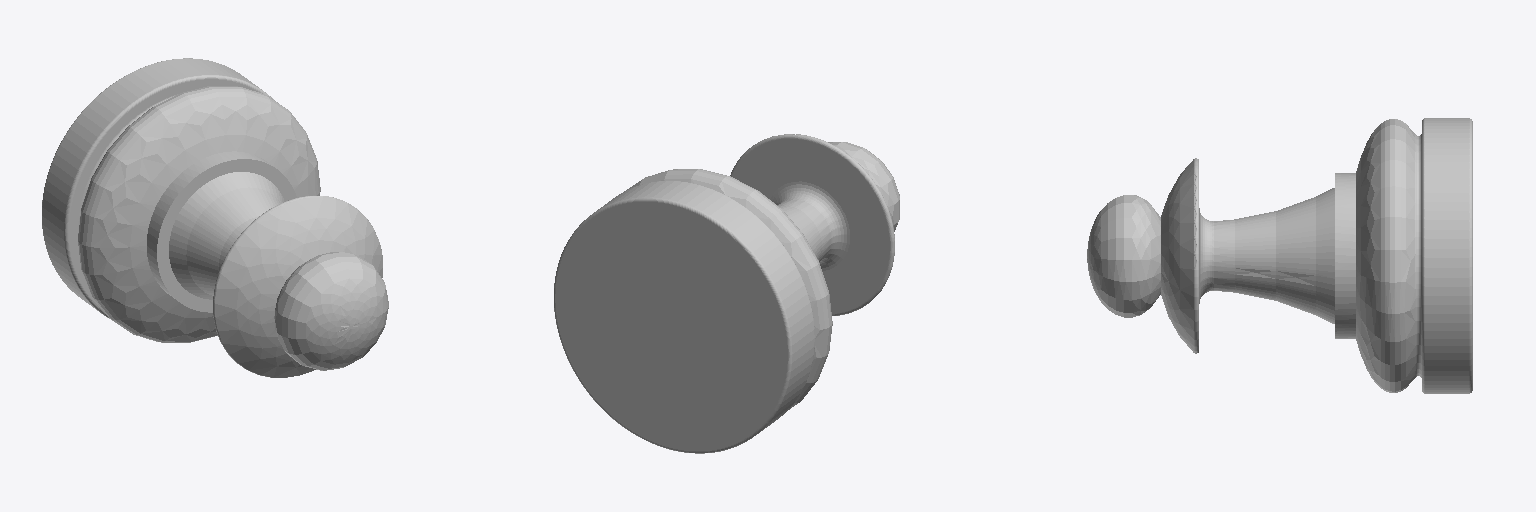
Rendered from Basic-Pawn.obj.
3 renders of one model, left to right at view 1: azimuth 30°, elevation 25°; view 2: azimuth 150°, elevation 25°; view 3: azimuth 270°, elevation 25°, orthographic.
Bounding box in the file's own units: 20 × 19.99 × 28.